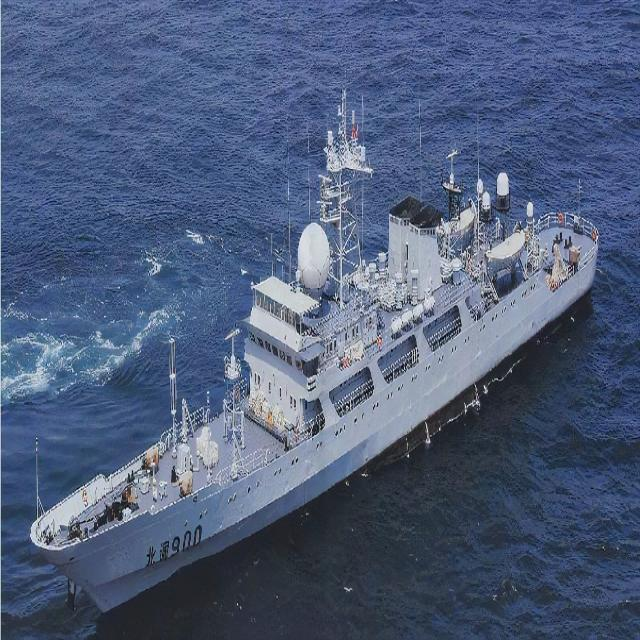navalvessels: (18, 72, 610, 619)
